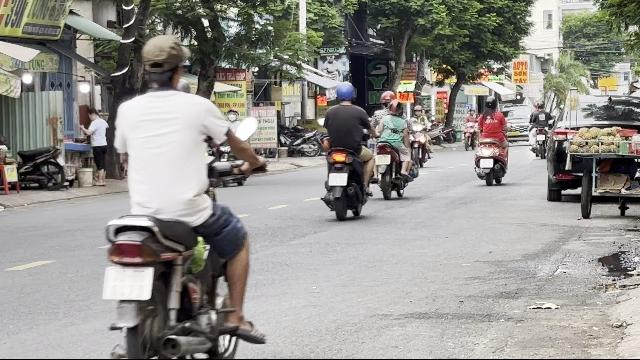helmet: (333, 81, 355, 103), (388, 100, 404, 116), (379, 90, 395, 106)
licenseplate: (103, 268, 153, 300), (329, 172, 347, 184), (375, 154, 391, 164)
motorcyclist: (96, 35, 268, 356), (318, 81, 374, 219), (371, 91, 415, 199)
nohelmet: (137, 35, 189, 91)
